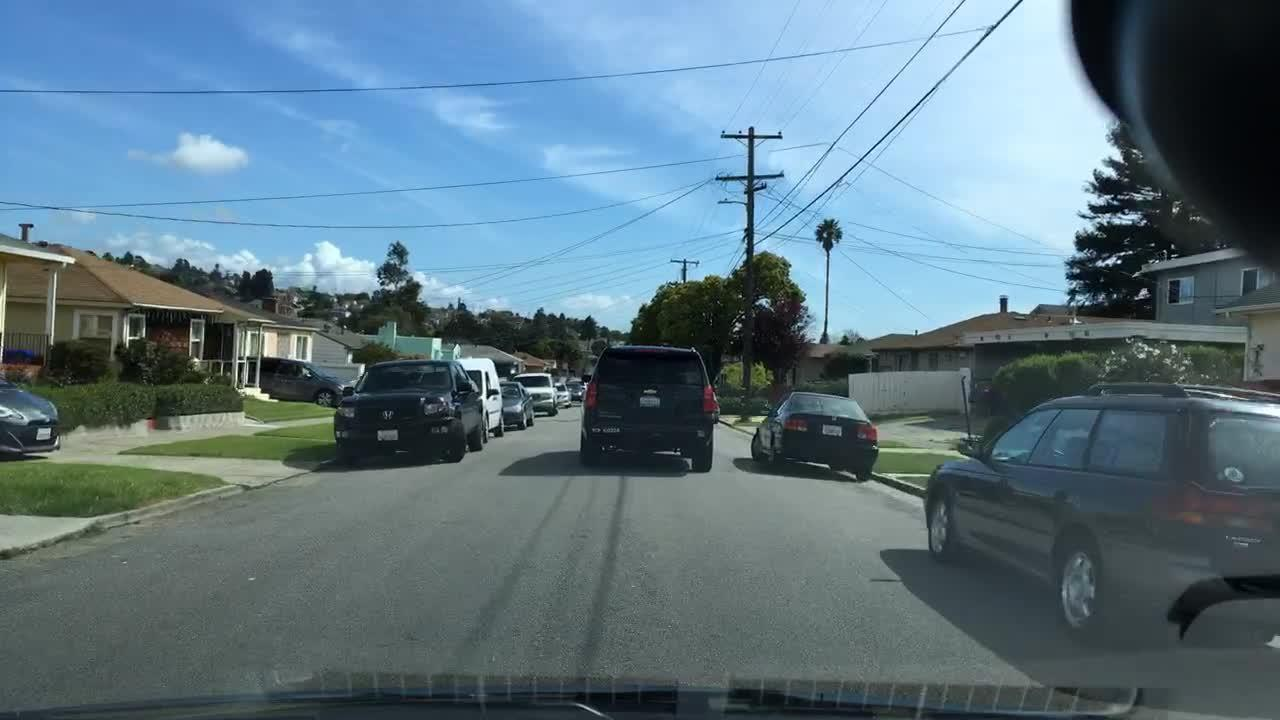Honda: (381, 408, 397, 422)
chevrolet: (639, 383, 665, 401)
